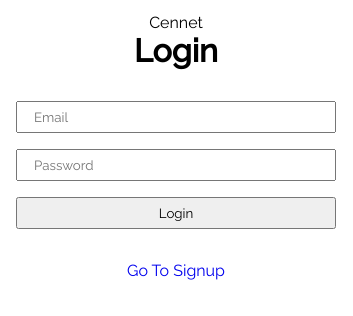
Test: Login Page Tests › if user enter wrong password
This screenshot has width=353, height=316.
Step 1. Type "mttuna90@gmail.com" into the field with placeholder "Email" → x=176, y=117, box [16,101,336,133]
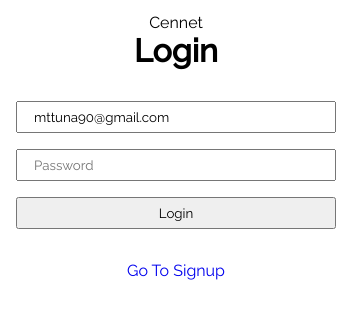
Step 2. Type "wrongpassword" into the password field with placeholder "Password" → x=176, y=165, box [16,149,336,181]
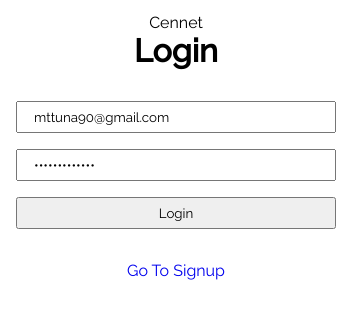
Step 3. Click the button → x=176, y=213, box [16,197,336,229]
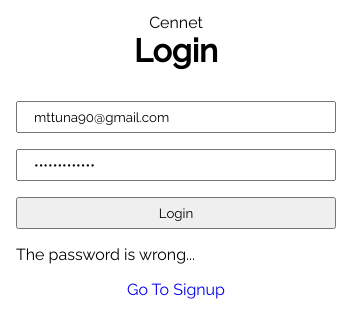
Expected: the text "The password is wrong..." is shown, [16,245,195,264]
